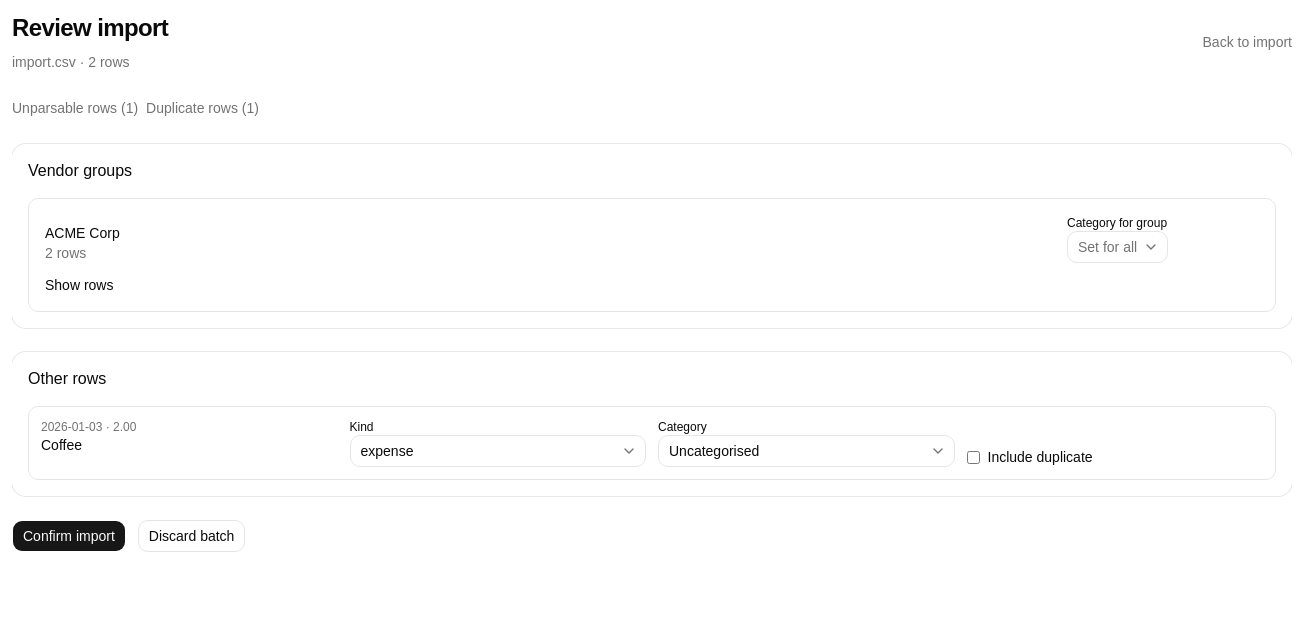
Test: ImportReviewPage › expands unparsable rows with a reason
Click the button "Unparsable rows (1)": (75, 108) [12,98,138,118]
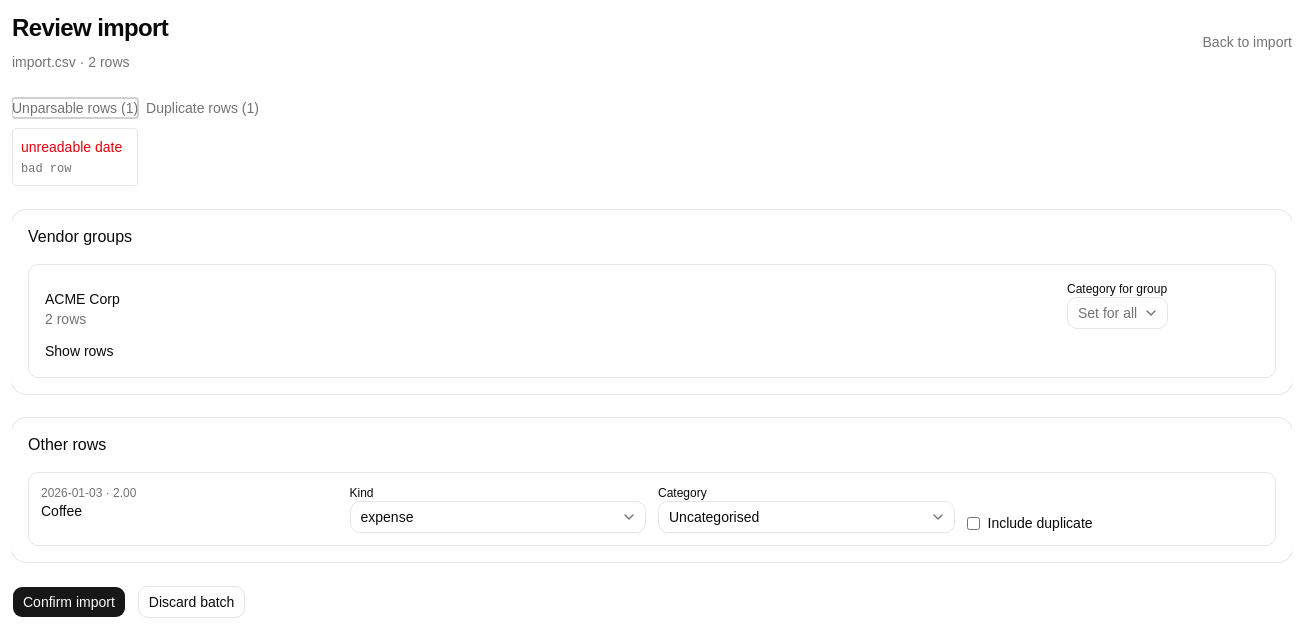
Result: the text "unreadable date" is shown at [21,137,129,157]
